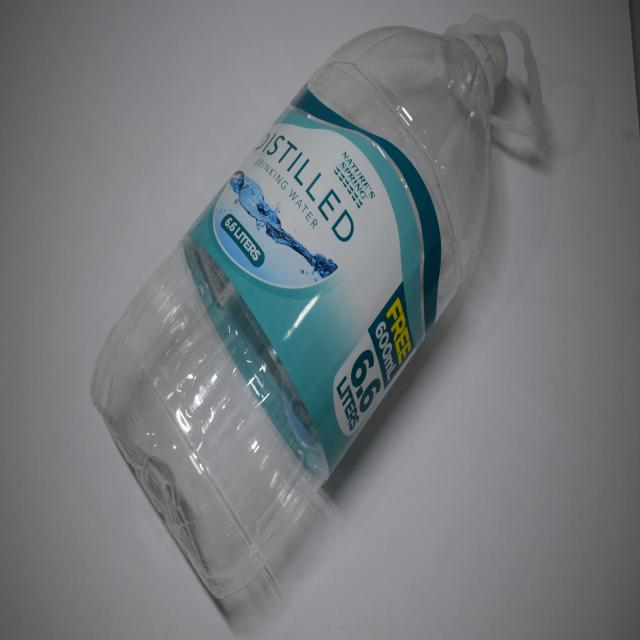bottle: (89, 7, 547, 603)
